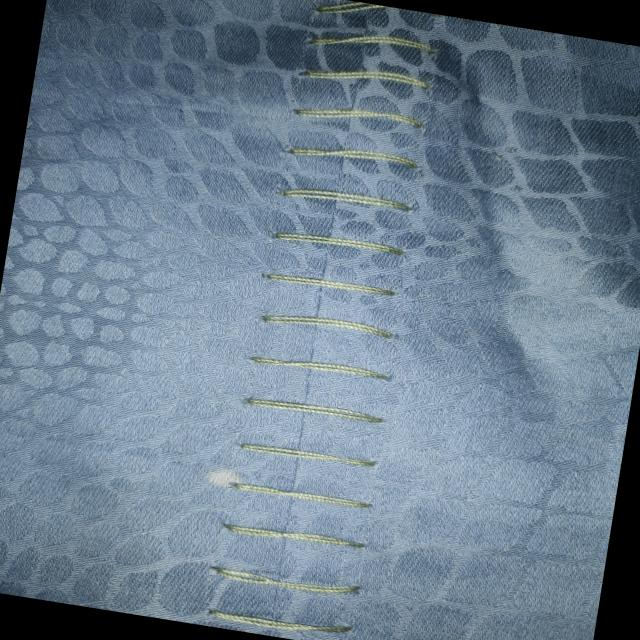gray stitch: (200, 0, 457, 640)
